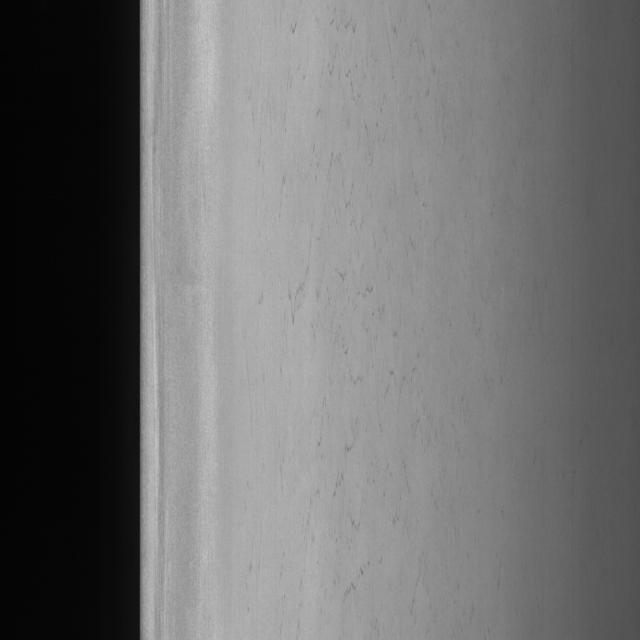inclusion: (273, 59, 442, 580)
